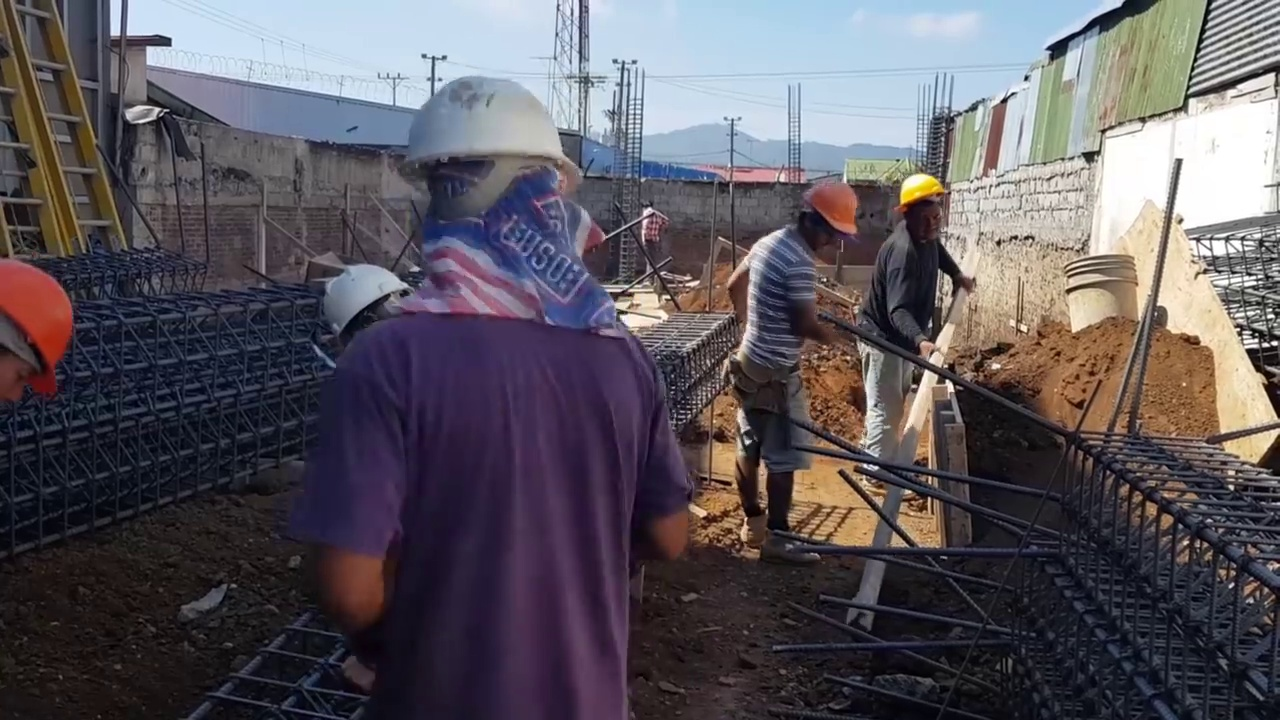helmet: (388, 71, 576, 175), (0, 267, 79, 400), (320, 267, 402, 351), (803, 179, 860, 236), (899, 174, 948, 208)
helmet-off: (640, 199, 655, 212)
helmet-on: (386, 66, 608, 334), (785, 179, 867, 257), (893, 170, 948, 244)
person: (309, 71, 695, 720), (723, 181, 865, 577), (854, 162, 980, 479), (639, 198, 670, 281)
